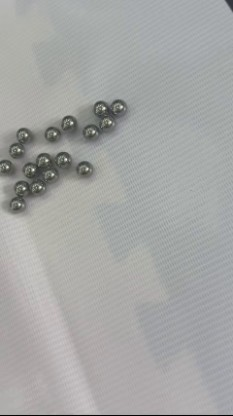ironball: (12, 124, 33, 146), (107, 94, 127, 117), (58, 109, 78, 132), (5, 195, 26, 215), (74, 159, 93, 179), (11, 178, 30, 198), (20, 158, 38, 179), (41, 164, 60, 183), (97, 114, 115, 133), (43, 124, 61, 143), (35, 150, 53, 168), (54, 150, 71, 168), (7, 140, 24, 158), (82, 123, 98, 142), (29, 178, 45, 196), (0, 154, 14, 173), (93, 99, 107, 117)
